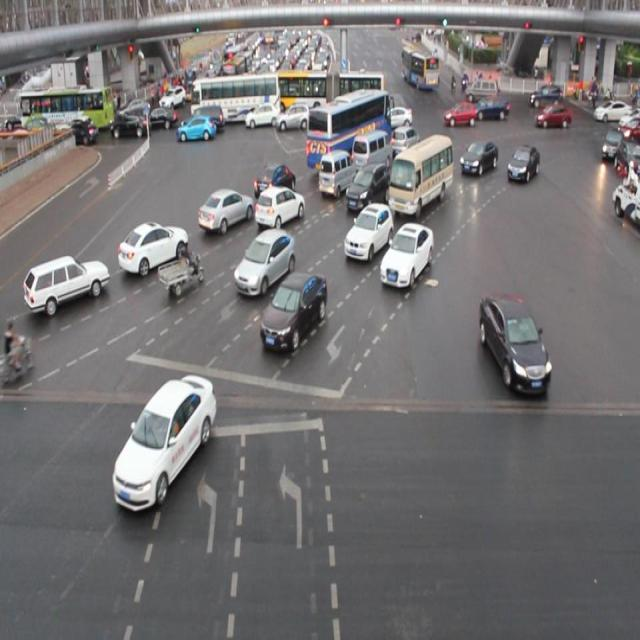car: (110, 366, 219, 512), (476, 286, 554, 396), (256, 273, 331, 353), (22, 252, 110, 316), (117, 220, 189, 275), (380, 224, 435, 292), (235, 230, 292, 294), (196, 184, 254, 233), (344, 203, 391, 260), (254, 185, 306, 230), (345, 164, 391, 208), (255, 162, 296, 202), (458, 138, 496, 176), (506, 145, 538, 184), (390, 124, 419, 160)
truck: (390, 136, 453, 214), (351, 130, 394, 177), (318, 150, 357, 195)
van: (306, 90, 392, 174)
